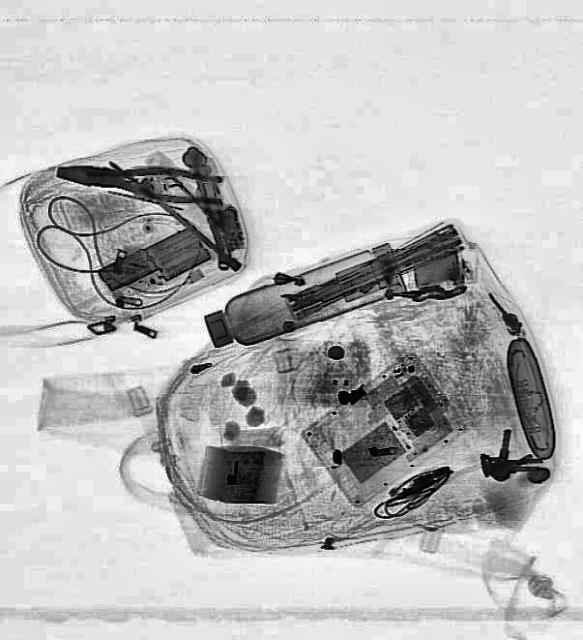Pliers: (54, 154, 226, 206)
